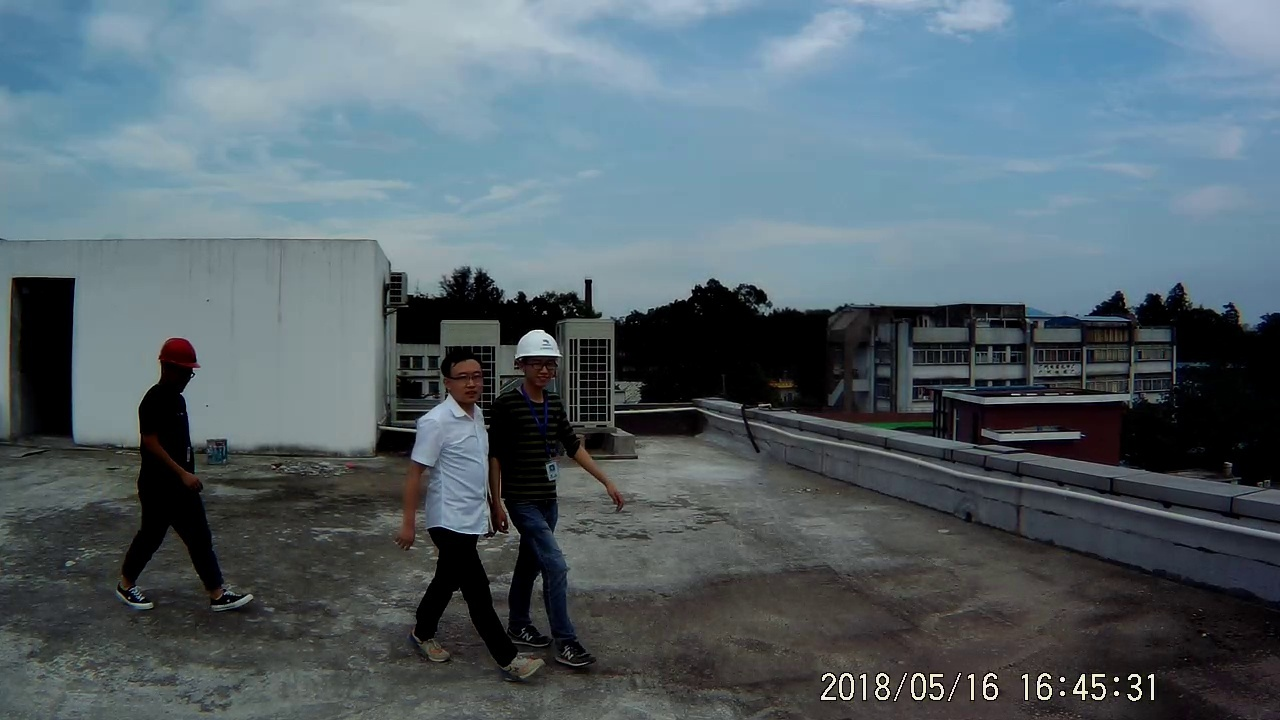none: (435, 344, 487, 410)
red: (152, 333, 201, 395)
white: (510, 323, 562, 393)
